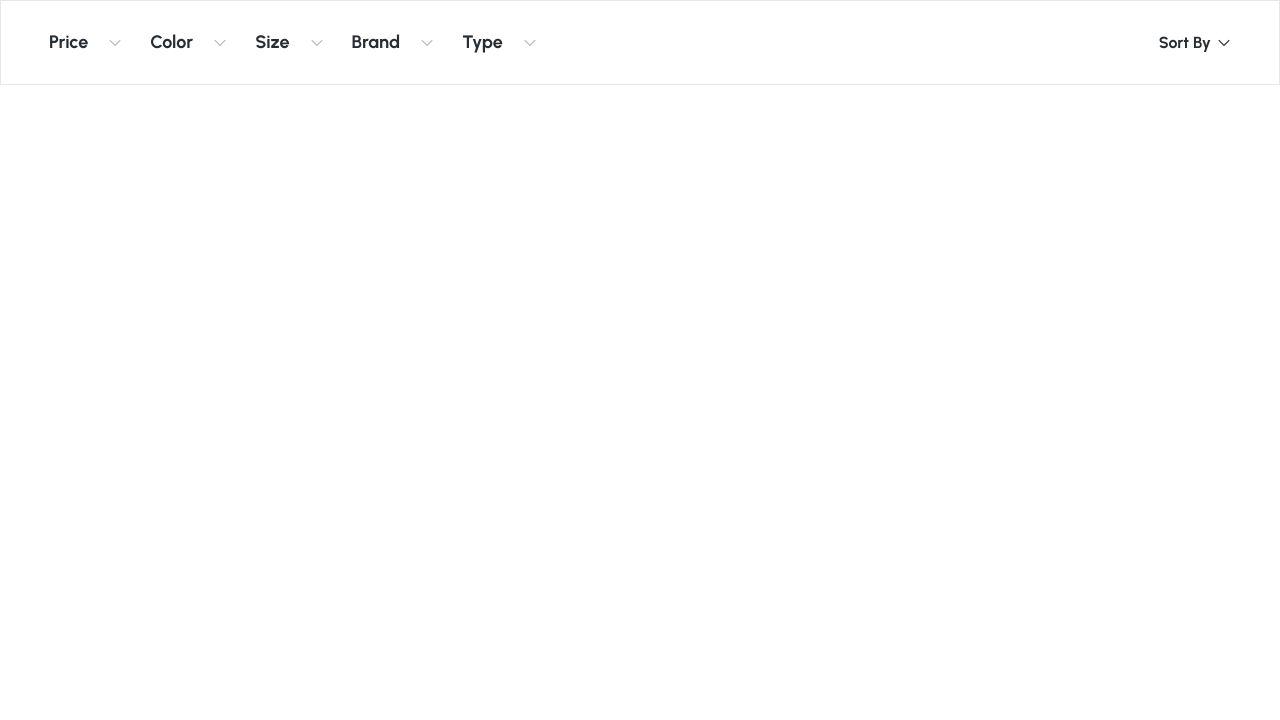
Scenario: FilterBar › open modal when filter button is clicked
Click the button labelled "Price" at (86, 42), box left=49, top=29, right=122, bottom=56
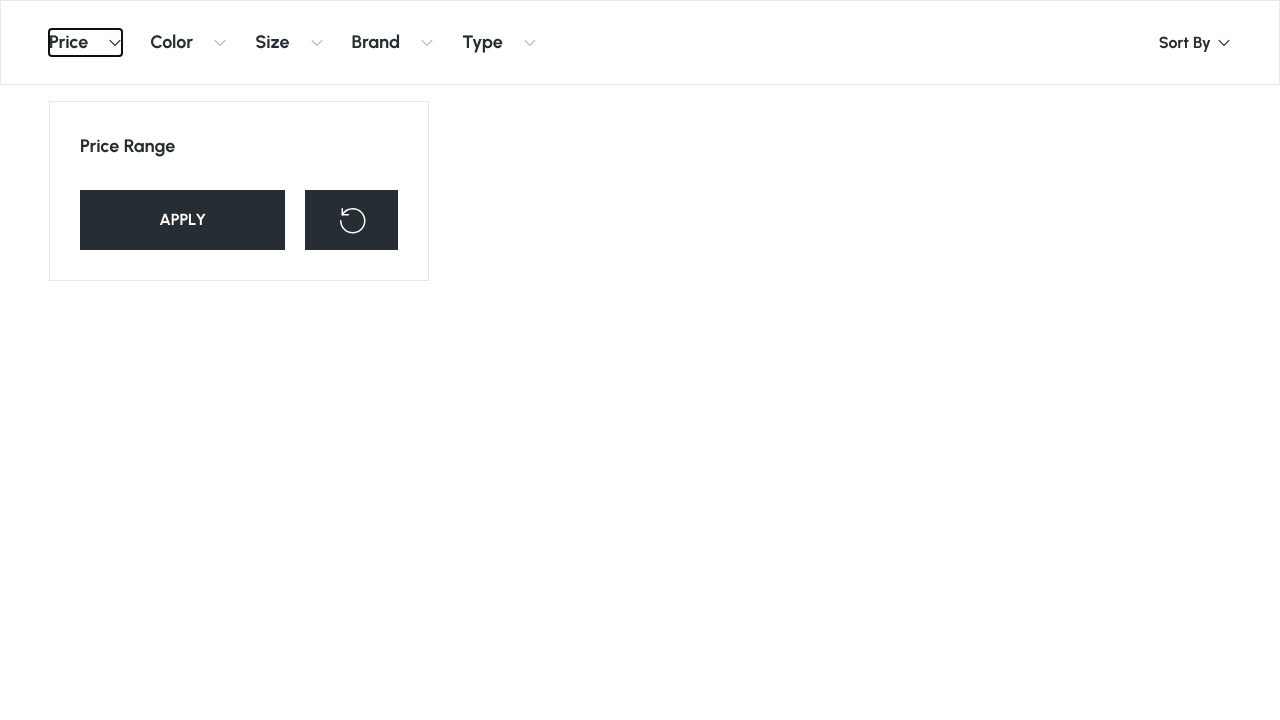
Result: the heading "Price Range" is shown at left=80, top=135, right=175, bottom=157
